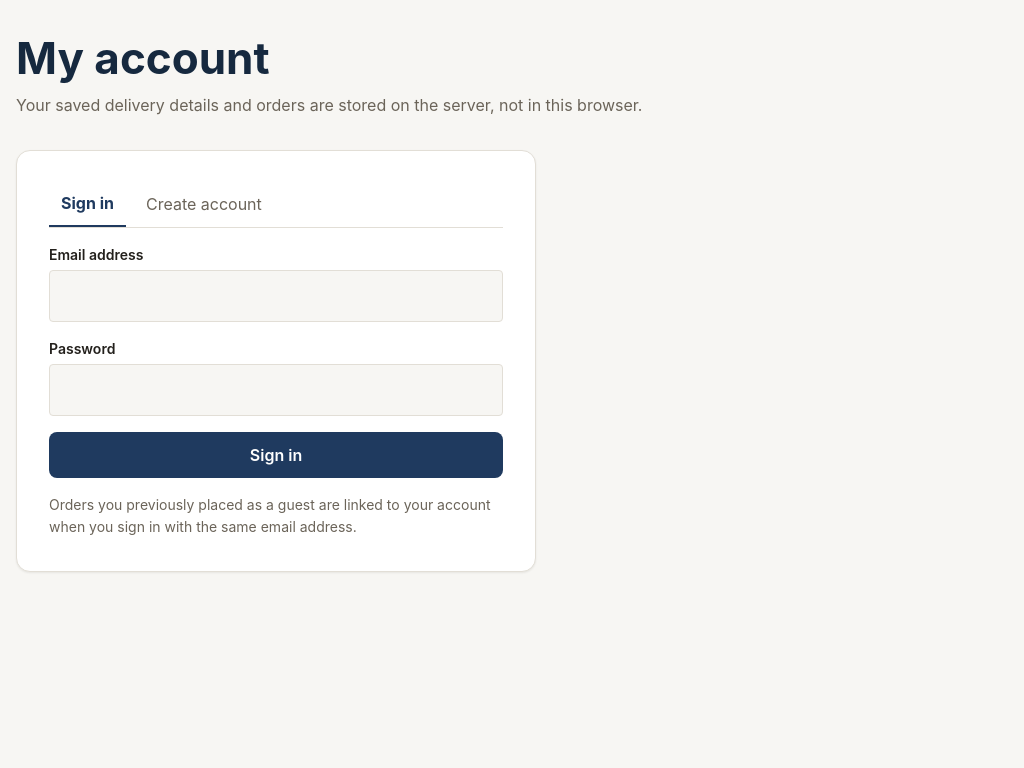
Test: Account › can create a customer account from the storefront
Click the tab "Create account". click: (204, 205)
box: top-left (134, 183), bottom-right (274, 227)
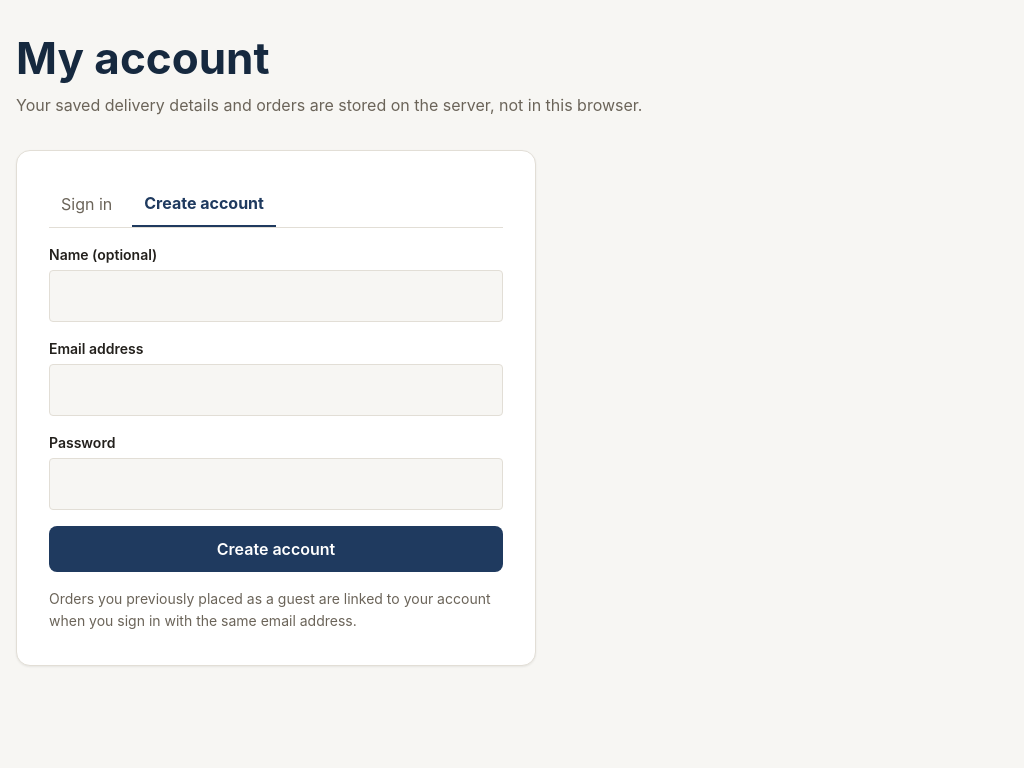
Type "Ada Obi" into the field labelled "Name (optional)". click: (276, 296)
box: top-left (49, 270), bottom-right (503, 322)
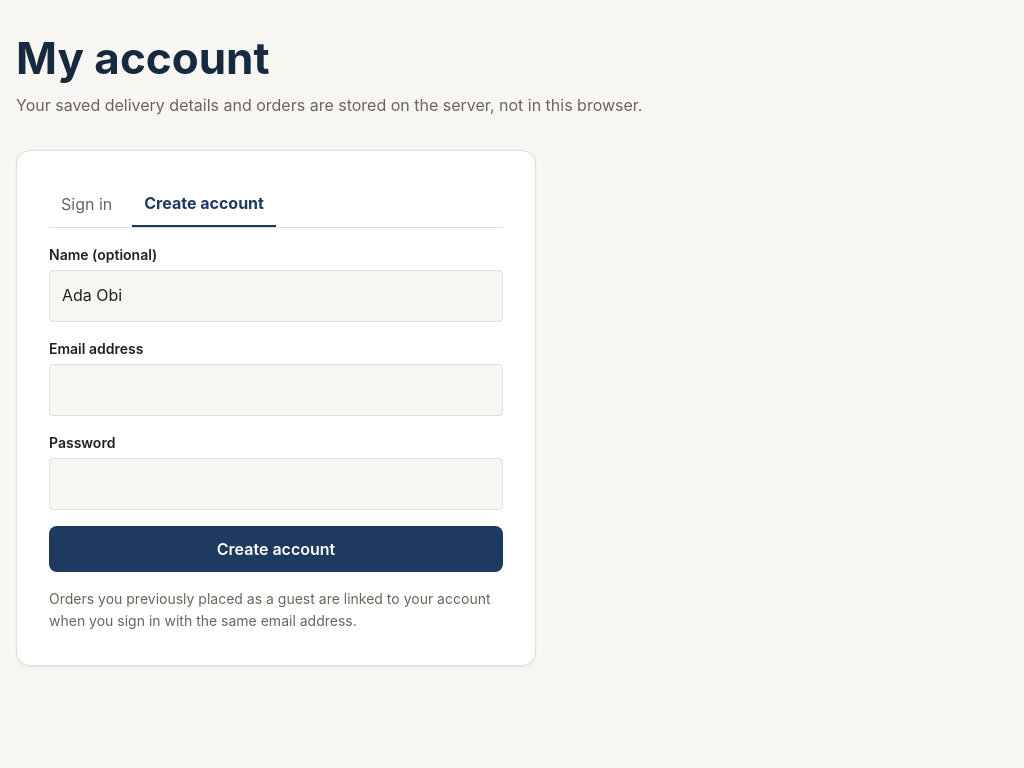
Type "ada@example.com" into the field labelled "Email address". click: (276, 390)
box: top-left (49, 364), bottom-right (503, 416)
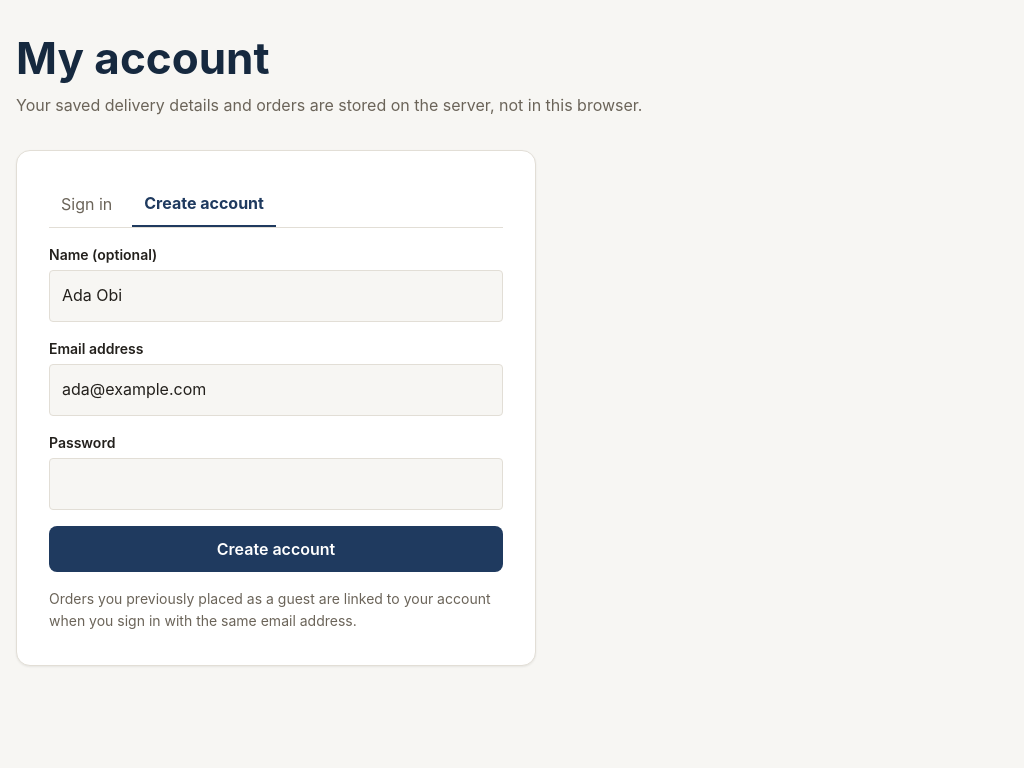
Type "long-password" into the password field labelled "Password". click: (276, 484)
box: top-left (49, 458), bottom-right (503, 510)
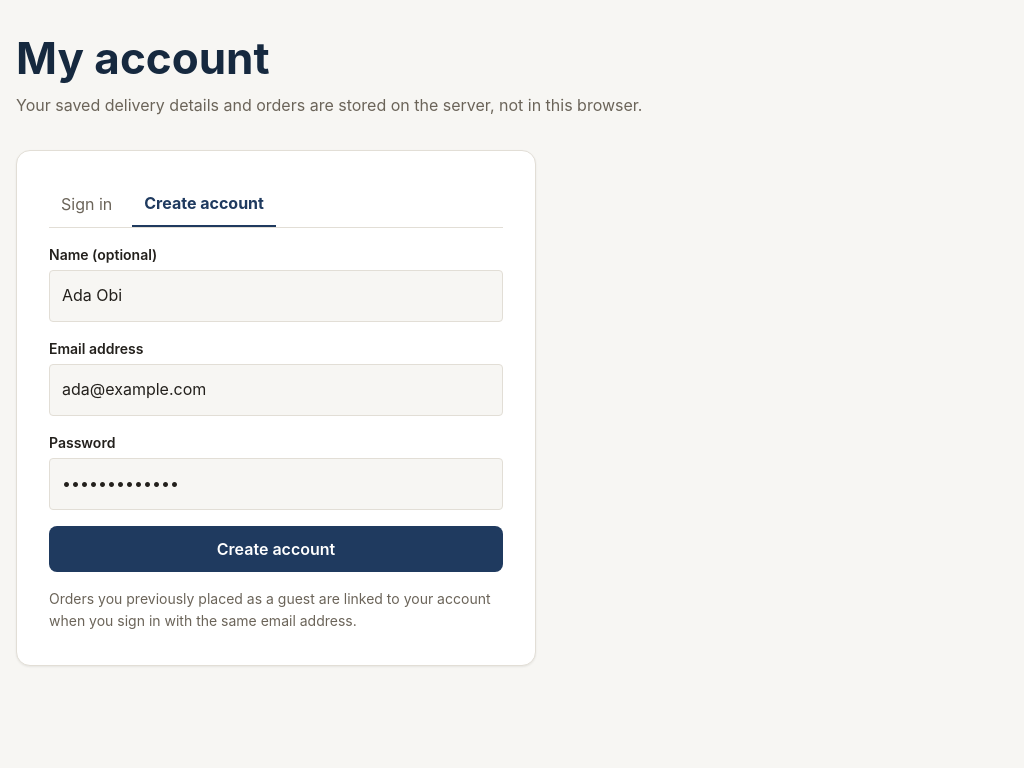
Click the button "Create account". click: (276, 549)
box: top-left (49, 526), bottom-right (503, 572)
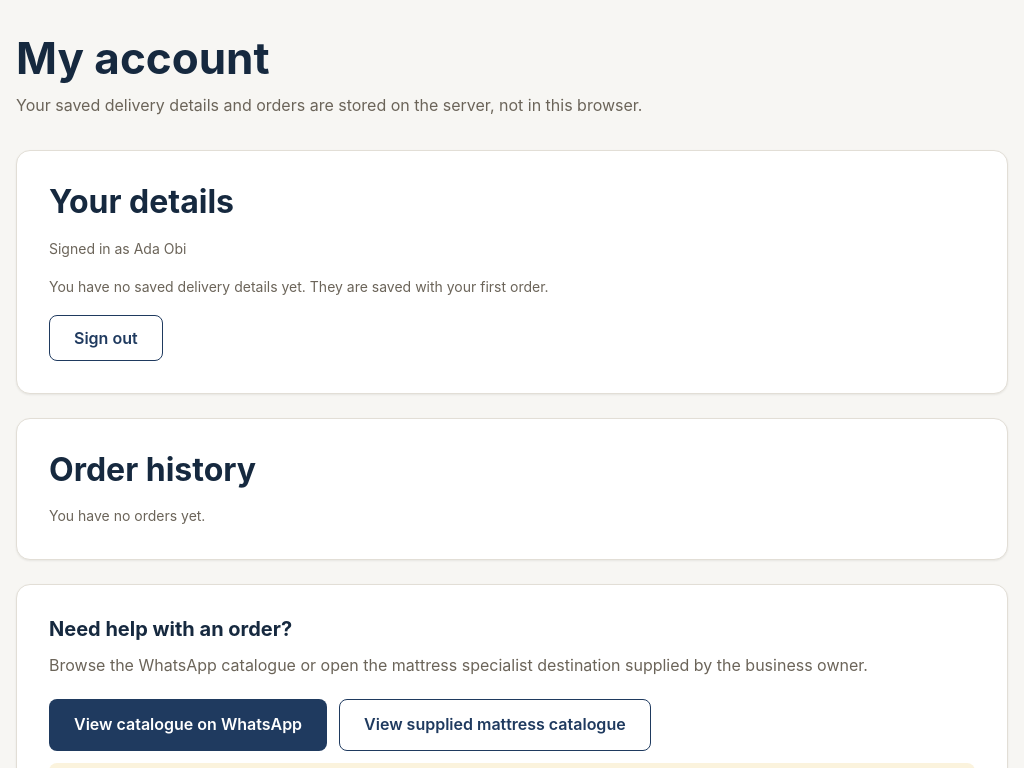
Result: the text "Signed in as Ada Obi" is shown at top-left (49, 238), bottom-right (186, 260)
